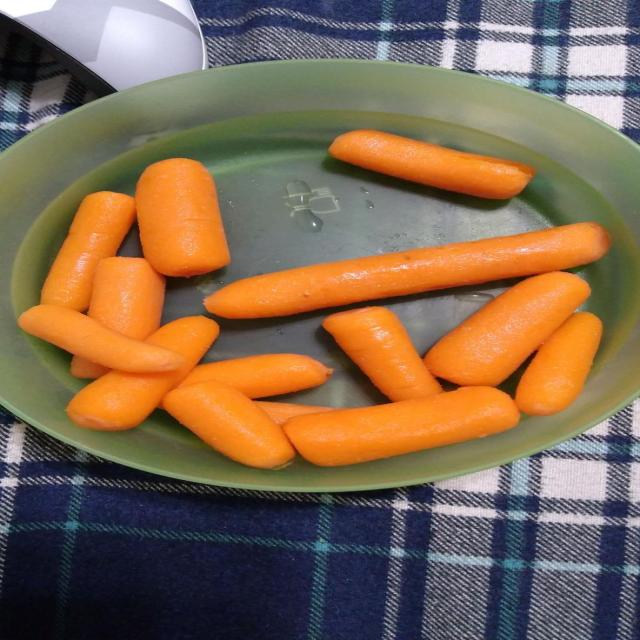carrot: (205, 223, 610, 318), (425, 272, 590, 386), (284, 388, 519, 466), (67, 317, 219, 430), (329, 130, 535, 198), (165, 380, 294, 469), (323, 307, 442, 401), (41, 192, 135, 311), (135, 159, 230, 276), (19, 305, 184, 372), (515, 313, 602, 415), (180, 354, 332, 398), (88, 257, 165, 340), (255, 401, 335, 425)
